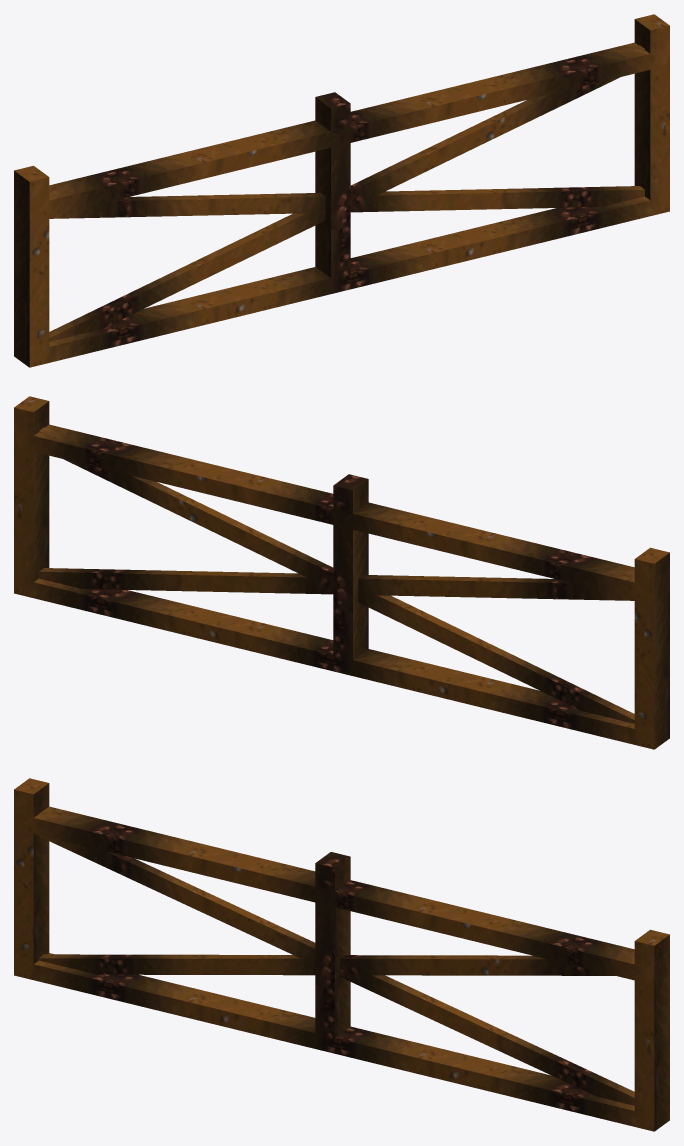
Rendered from Fence.glb.
3 views of the same model, one above another, from view 1: azimuth 30°, elevation 25°; view 2: azimuth 150°, elevation 25°; view 3: azimuth 330°, elevation 25° (orthographic).
Parts seen in each view (by area): view 1: Fence; view 2: Fence; view 3: Fence.
Part boxes in pixels (bbox=[...]): Fence: bbox=[14, 14, 669, 367]; Fence: bbox=[14, 396, 669, 749]; Fence: bbox=[14, 778, 669, 1131].
Size of the model in its own units: 357 by 99.2 by 15.
Materials: 1 (1 with a texture image).
